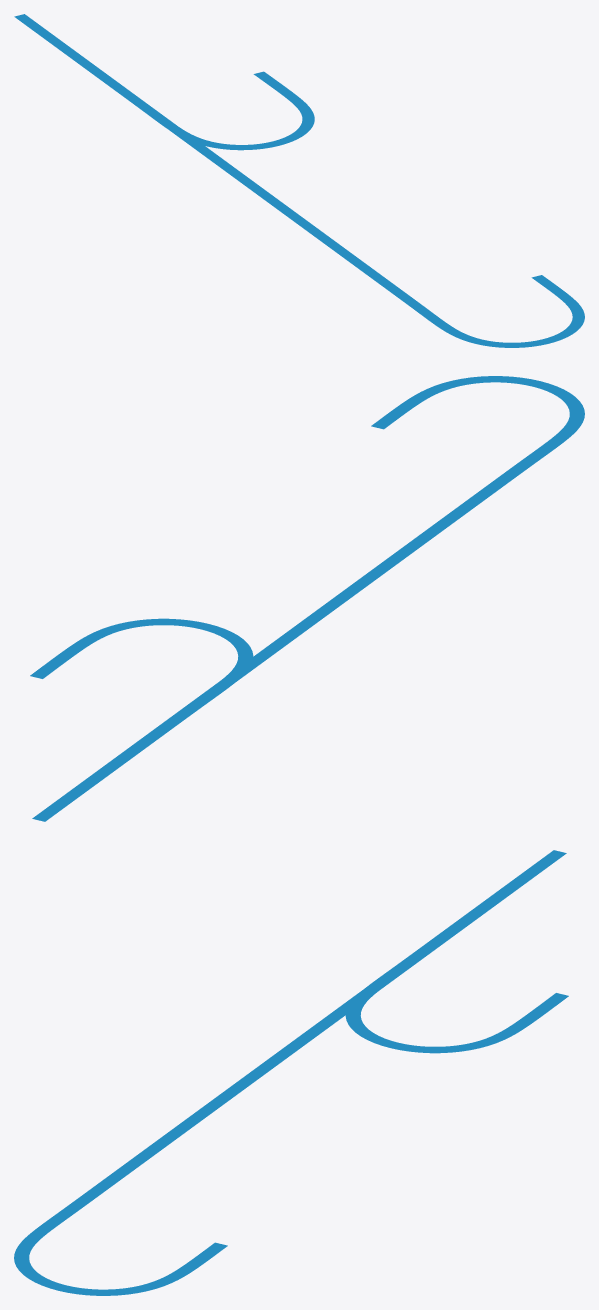
File: guide.glb
The picture shows the model from 3 angles, top to bottom: view 1: azimuth 30°, elevation 25°; view 2: azimuth 150°, elevation 25°; view 3: azimuth 330°, elevation 25°; orthographic projection. The views are drawn at different scales.
Visible parts, largest first — view 1: static; view 2: static; view 3: static.
Boxes of the visible parts, x1=… form: static: x1=14, y1=14, x2=584, y2=347; static: x1=30, y1=376, x2=584, y2=821; static: x1=14, y1=850, x2=568, y2=1295.
Bounding box in the file's own units: 4.27 × 0 × 24.29.
